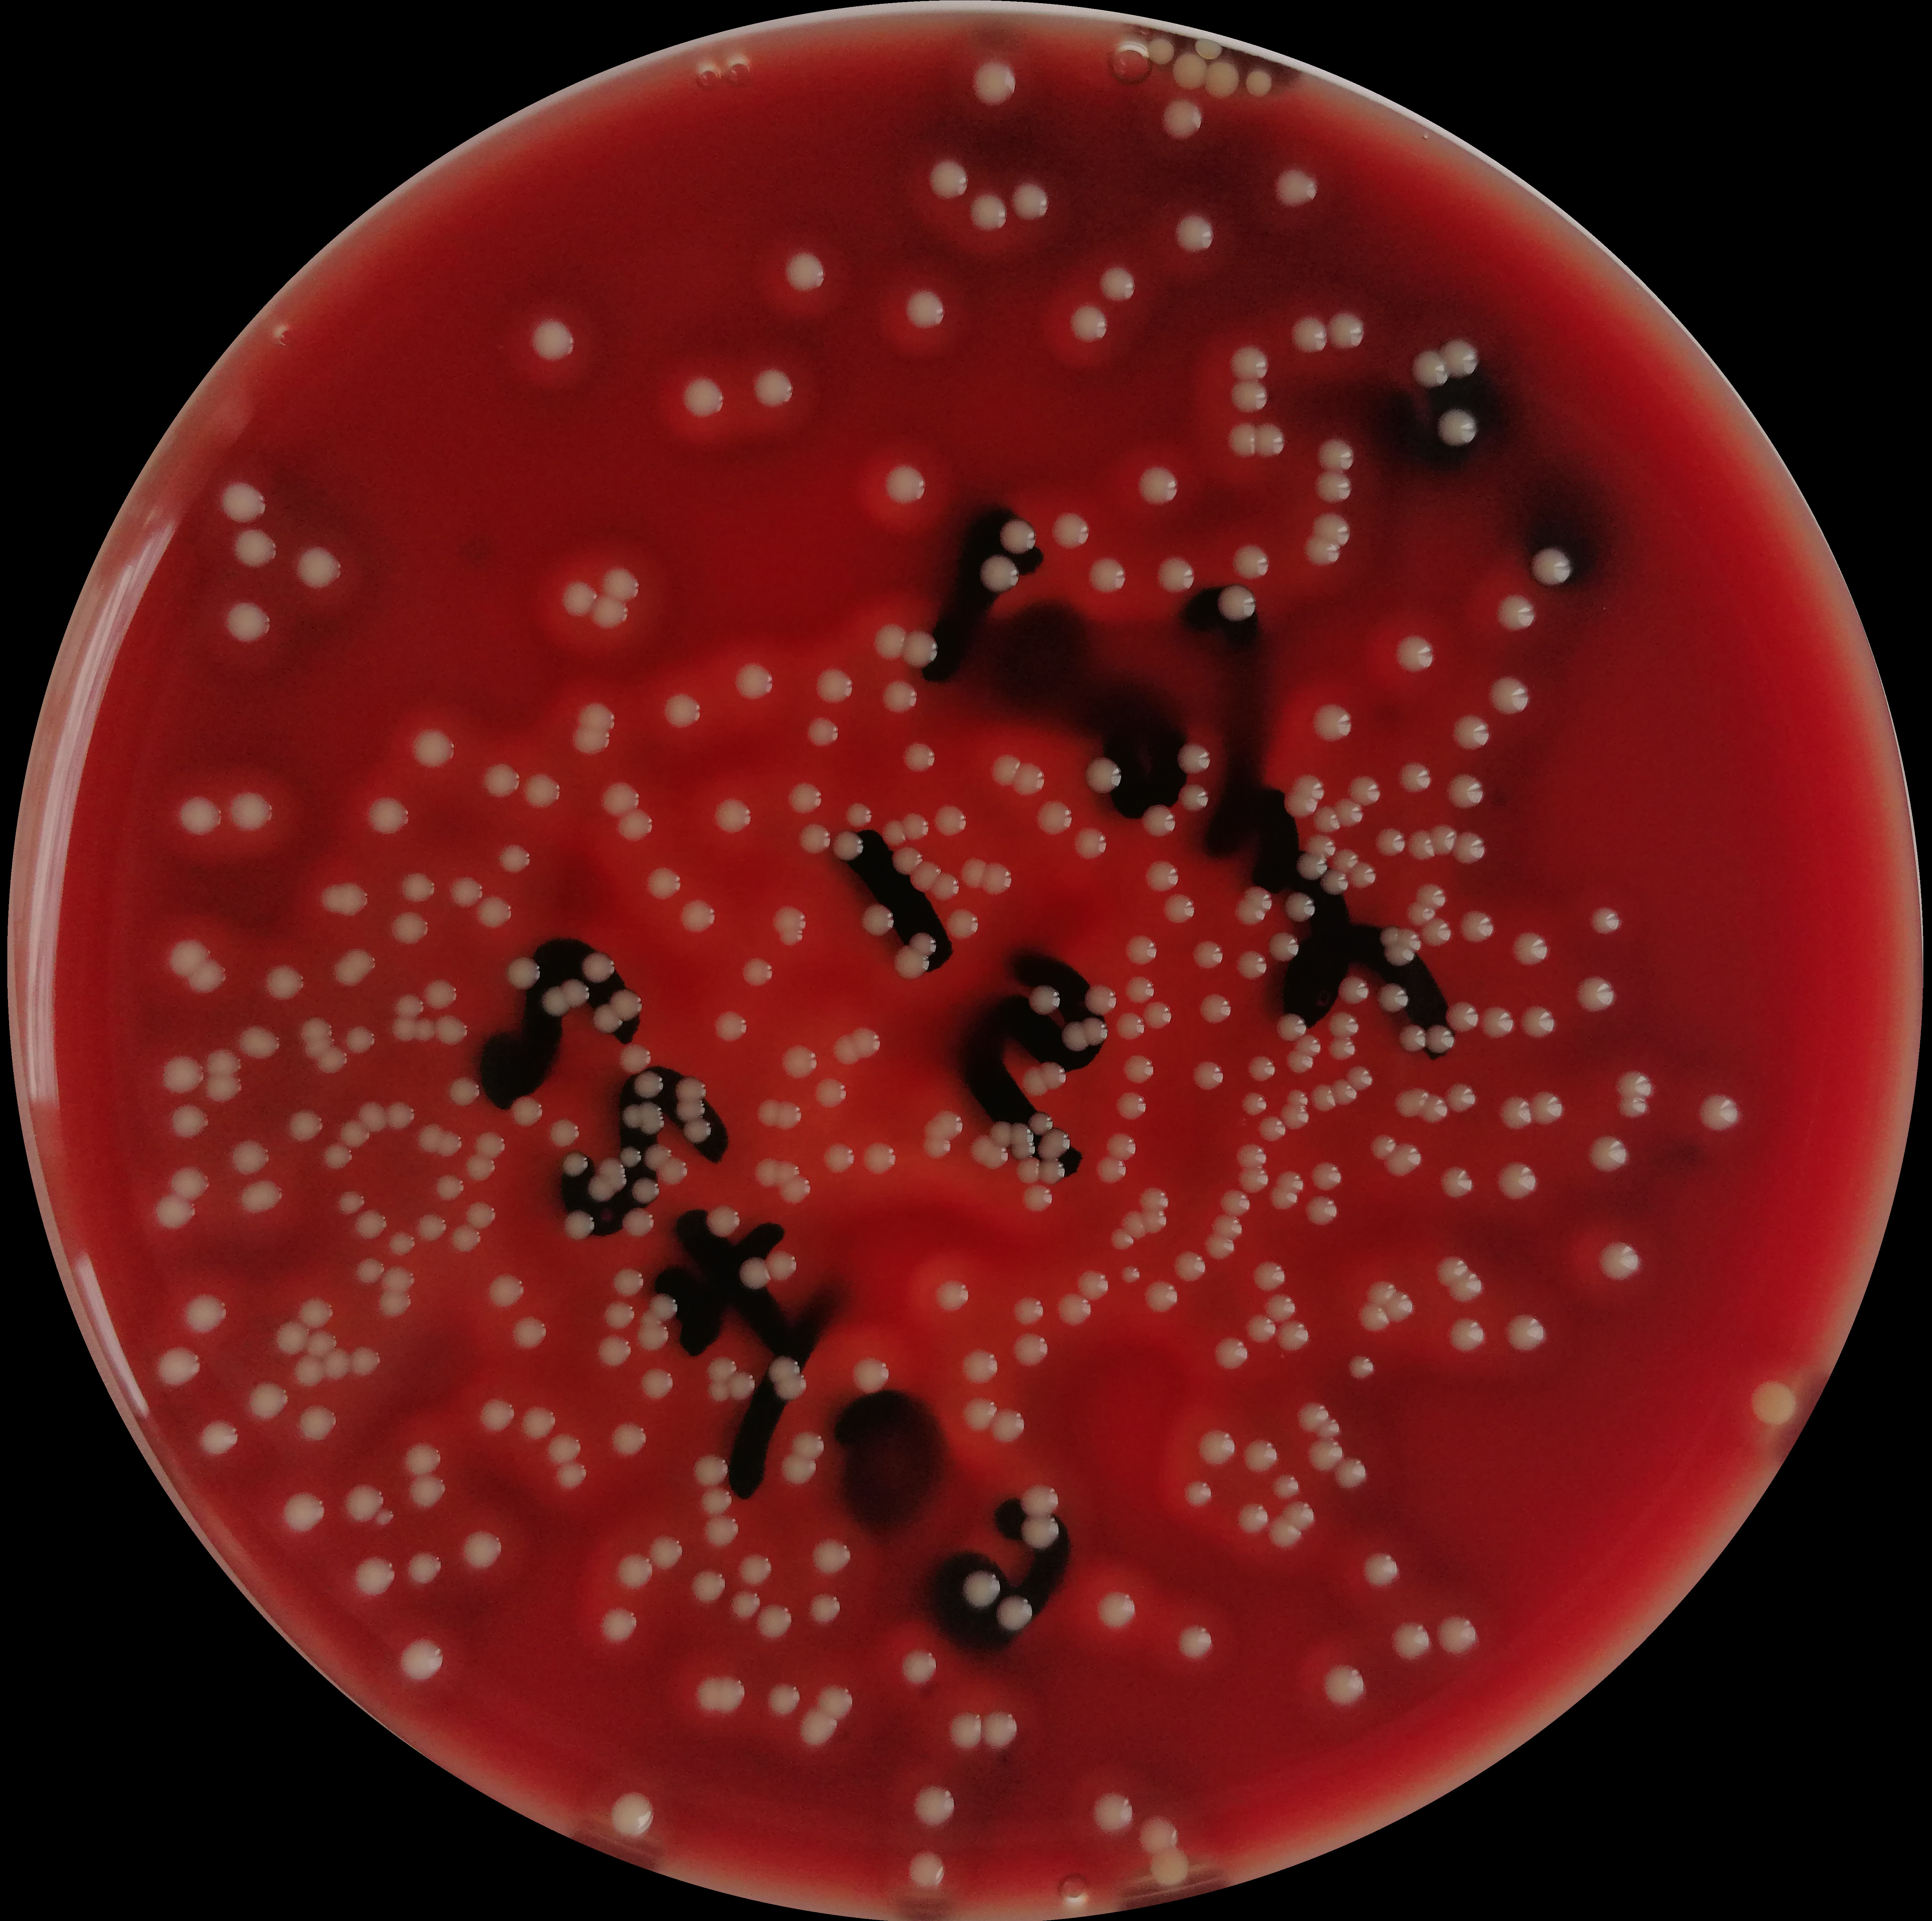sp21: (964, 58, 1029, 111), (609, 1787, 665, 1844), (918, 151, 977, 202), (693, 1669, 751, 1720), (408, 721, 461, 776), (1269, 162, 1327, 211), (218, 596, 276, 646), (215, 477, 269, 528), (289, 544, 347, 591), (528, 317, 582, 366), (1133, 461, 1184, 512), (1089, 1583, 1140, 1634), (896, 285, 948, 334), (398, 1632, 447, 1684), (153, 1342, 204, 1391), (329, 943, 380, 992), (1524, 542, 1577, 589), (910, 1782, 959, 1831), (1306, 700, 1357, 748), (352, 1552, 399, 1603), (677, 376, 730, 422), (276, 1490, 329, 1536), (1082, 554, 1137, 598), (1436, 332, 1483, 382), (1747, 1377, 1797, 1425), (1482, 668, 1533, 714), (1028, 797, 1079, 843), (1432, 1613, 1483, 1659), (245, 1379, 296, 1425), (195, 1414, 246, 1460), (779, 248, 827, 296), (748, 366, 795, 413), (1158, 95, 1207, 141), (964, 190, 1014, 236), (1434, 403, 1483, 449), (1323, 1661, 1369, 1710), (595, 1604, 644, 1650), (179, 1289, 229, 1335), (225, 785, 274, 830), (656, 688, 706, 734), (232, 521, 278, 570), (876, 670, 920, 721), (174, 797, 225, 841), (1133, 1814, 1186, 1856), (1221, 338, 1276, 378), (1170, 209, 1218, 255), (1066, 301, 1112, 348), (1392, 630, 1438, 677), (994, 515, 1042, 561), (943, 1708, 991, 1754), (1446, 711, 1496, 755), (977, 549, 1026, 593), (880, 461, 929, 505), (809, 661, 859, 705), (262, 959, 311, 1003), (1100, 259, 1142, 310), (234, 1024, 285, 1066), (1225, 538, 1277, 579), (1596, 1240, 1642, 1286), (1089, 1787, 1135, 1833), (364, 792, 410, 837), (340, 1479, 387, 1523), (1506, 931, 1555, 973), (1172, 1622, 1221, 1664), (463, 1525, 505, 1574), (734, 654, 772, 707), (1168, 47, 1212, 93), (1198, 58, 1244, 102), (894, 626, 940, 670), (1571, 969, 1617, 1013), (1145, 1845, 1191, 1889), (692, 1446, 735, 1492), (165, 936, 211, 980), (477, 760, 523, 804), (853, 895, 899, 939), (1006, 179, 1054, 222), (1300, 531, 1348, 573), (1154, 551, 1197, 598), (1212, 582, 1260, 625), (1452, 908, 1499, 950), (1501, 1311, 1548, 1353), (1189, 1427, 1237, 1469), (165, 1163, 213, 1205), (517, 771, 565, 813), (711, 790, 751, 839), (160, 1052, 204, 1096), (929, 1274, 973, 1318), (1119, 931, 1165, 973), (1585, 1133, 1631, 1175), (1358, 1550, 1404, 1592), (1390, 1618, 1432, 1664), (906, 1845, 948, 1891), (475, 1395, 517, 1441), (850, 1351, 892, 1397), (153, 1191, 199, 1233), (556, 579, 602, 621), (927, 800, 975, 841), (894, 1648, 941, 1689), (320, 878, 368, 918), (575, 697, 623, 737), (1325, 304, 1367, 348), (1228, 373, 1270, 417), (1404, 347, 1448, 389), (1496, 1158, 1538, 1202), (296, 1402, 340, 1444), (510, 1312, 554, 1355), (642, 860, 684, 904), (890, 943, 934, 985), (1008, 1328, 1052, 1370), (957, 1344, 999, 1388), (1047, 510, 1093, 551), (1698, 1092, 1744, 1133), (755, 1599, 795, 1645), (646, 1530, 686, 1576), (401, 1546, 447, 1587), (778, 1036, 818, 1082), (611, 804, 656, 844), (1017, 1511, 1063, 1552), (1140, 857, 1188, 895), (1369, 982, 1416, 1020), (1314, 433, 1357, 475), (1515, 1003, 1557, 1045), (797, 1706, 839, 1749), (229, 1138, 271, 1180), (818, 1136, 860, 1179), (389, 909, 431, 952), (600, 565, 642, 607), (867, 623, 908, 667), (1446, 823, 1487, 867), (1240, 1432, 1281, 1476), (978, 1712, 1019, 1756), (762, 1678, 806, 1719), (862, 1136, 903, 1180), (503, 953, 544, 997), (398, 867, 438, 911), (598, 778, 642, 818), (785, 774, 829, 814), (992, 1592, 1038, 1631), (540, 1430, 586, 1469), (238, 1177, 285, 1214), (1249, 417, 1290, 459), (975, 858, 1017, 899), (943, 904, 984, 946), (405, 1469, 447, 1509), (697, 1479, 737, 1522), (486, 1267, 526, 1309), (702, 1200, 744, 1240), (1288, 315, 1332, 354), (1309, 508, 1353, 547), (799, 711, 843, 749), (609, 1418, 648, 1462), (586, 591, 630, 630), (1492, 595, 1538, 632), (776, 1451, 822, 1488), (1311, 468, 1358, 503), (1140, 802, 1181, 843), (403, 1437, 443, 1478), (171, 1101, 211, 1142), (711, 1008, 751, 1048), (612, 1548, 651, 1590), (560, 1203, 598, 1245), (187, 959, 229, 997), (984, 1407, 1026, 1446), (1080, 756, 1124, 793), (1302, 1437, 1346, 1474), (896, 739, 943, 772), (1443, 771, 1483, 809), (970, 1135, 1008, 1175), (1524, 1087, 1564, 1126), (1277, 1497, 1318, 1536), (813, 1682, 853, 1720), (702, 1511, 741, 1552), (635, 1363, 676, 1402), (595, 1333, 635, 1372), (762, 1245, 802, 1284), (336, 1114, 377, 1152), (619, 1202, 658, 1242), (496, 839, 535, 880), (827, 825, 866, 866), (957, 1395, 998, 1434), (1494, 1092, 1536, 1129), (732, 1550, 774, 1587), (447, 1071, 484, 1114), (505, 1089, 542, 1131), (808, 1539, 852, 1574), (567, 721, 614, 753), (1186, 936, 1225, 975), (1381, 1140, 1420, 1179), (1330, 1451, 1369, 1490), (352, 1207, 391, 1245), (473, 890, 512, 929), (1221, 417, 1258, 457), (1279, 887, 1320, 924), (1207, 1335, 1248, 1372), (521, 1400, 558, 1441), (296, 1293, 336, 1330), (630, 1064, 667, 1105), (772, 1096, 809, 1136), (607, 983, 644, 1024), (1019, 1479, 1059, 1516), (1175, 739, 1212, 778), (1344, 772, 1381, 811), (1441, 997, 1480, 1034), (1072, 825, 1110, 862), (927, 866, 964, 904), (904, 858, 943, 895), (1195, 990, 1233, 1027), (1235, 1499, 1272, 1538), (962, 1571, 1001, 1608), (688, 1569, 727, 1606), (771, 1369, 809, 1406), (618, 1038, 655, 1077), (813, 1073, 850, 1112), (1010, 1289, 1047, 1328), (1056, 1289, 1093, 1328), (447, 873, 486, 909), (679, 897, 716, 936), (794, 818, 831, 857), (1262, 932, 1302, 968), (1388, 1084, 1429, 1119), (1249, 1258, 1290, 1293), (1263, 1515, 1304, 1550), (577, 950, 618, 985), (421, 978, 461, 1013), (1008, 762, 1050, 795), (1306, 1159, 1348, 1193), (1610, 1068, 1652, 1101), (320, 1342, 354, 1384), (1161, 888, 1198, 925), (1119, 1050, 1156, 1087), (1379, 1288, 1416, 1325), (1438, 1163, 1475, 1200), (290, 1351, 327, 1388), (1443, 1082, 1482, 1117), (1446, 1316, 1485, 1351), (299, 1325, 338, 1360), (384, 1226, 419, 1265), (435, 1012, 470, 1050), (1170, 1249, 1211, 1282), (804, 1596, 845, 1629), (274, 1316, 308, 1356), (202, 1047, 243, 1080), (850, 1020, 883, 1061), (202, 1071, 245, 1103), (1587, 904, 1624, 939), (1420, 1020, 1457, 1055), (1036, 1128, 1073, 1163), (1293, 1399, 1330, 1434), (739, 1253, 774, 1289), (355, 1098, 391, 1135), (470, 1126, 507, 1161), (737, 953, 772, 990), (1397, 756, 1431, 795), (1024, 983, 1063, 1017), (1110, 1089, 1149, 1122), (723, 1367, 757, 1406), (600, 1296, 639, 1330), (285, 1108, 324, 1142), (429, 1170, 468, 1203), (764, 1353, 804, 1384), (1077, 1263, 1109, 1304), (767, 899, 808, 931), (635, 1098, 665, 1140), (1242, 67, 1277, 102), (1337, 973, 1372, 1008), (1476, 1001, 1511, 1036), (897, 807, 933, 843), (1344, 1349, 1379, 1384), (341, 1022, 377, 1057), (1144, 32, 1177, 69), (1175, 783, 1212, 816), (1371, 825, 1408, 858), (1240, 881, 1277, 915), (984, 753, 1021, 786), (1189, 1059, 1226, 1092), (1218, 1186, 1255, 1219), (1357, 1300, 1390, 1337), (1450, 1267, 1483, 1304), (725, 1587, 758, 1624), (788, 1427, 825, 1460), (350, 1340, 384, 1377), (558, 973, 591, 1010), (1272, 1321, 1311, 1353), (377, 1261, 415, 1293), (1418, 917, 1453, 950), (1121, 975, 1156, 1008), (1304, 1193, 1339, 1226), (1262, 1289, 1295, 1325), (1242, 1312, 1276, 1348), (1434, 1254, 1469, 1288), (551, 1458, 586, 1492), (704, 1355, 739, 1388), (352, 1254, 387, 1288), (380, 1098, 415, 1131), (413, 1207, 447, 1242), (547, 1115, 582, 1149), (410, 1013, 443, 1048), (1330, 799, 1367, 830), (1379, 939, 1416, 971), (1084, 983, 1121, 1015), (1142, 1282, 1179, 1314), (1179, 1479, 1216, 1511), (750, 1152, 781, 1189), (1022, 1180, 1054, 1217), (887, 841, 924, 873), (1429, 822, 1459, 860), (1200, 1231, 1239, 1261), (299, 1036, 338, 1066), (311, 1043, 352, 1071), (1021, 1066, 1054, 1099), (1276, 1010, 1309, 1043), (1237, 1163, 1270, 1196), (640, 1138, 674, 1172), (589, 1004, 623, 1038), (1406, 827, 1438, 862), (1413, 880, 1448, 911), (1300, 830, 1336, 862), (1277, 1101, 1313, 1133), (1103, 1129, 1138, 1161), (642, 1289, 677, 1321), (635, 1323, 670, 1355), (377, 1288, 412, 1319), (658, 1152, 690, 1187), (1362, 1281, 1399, 1311), (415, 1119, 443, 1158), (1193, 32, 1225, 65), (1295, 851, 1328, 883), (1344, 860, 1378, 892), (1397, 1022, 1429, 1055), (955, 857, 987, 890), (1270, 1471, 1304, 1502), (322, 1138, 354, 1172), (463, 1152, 496, 1184), (676, 1070, 707, 1103), (299, 1015, 333, 1047), (843, 797, 875, 830), (1283, 790, 1318, 820), (1233, 1142, 1269, 1172), (1093, 1154, 1128, 1184), (612, 1263, 642, 1298), (674, 1096, 709, 1126), (934, 1105, 964, 1140), (918, 1133, 954, 1163), (1402, 899, 1439, 927), (904, 929, 941, 957), (772, 1156, 801, 1193), (1615, 1094, 1654, 1121), (1232, 948, 1265, 978), (1038, 1057, 1068, 1091), (1307, 1080, 1337, 1114), (336, 1186, 366, 1219), (450, 1219, 480, 1253), (755, 1098, 785, 1131), (538, 982, 568, 1015), (392, 989, 422, 1022), (1290, 774, 1325, 802), (1135, 1187, 1172, 1214), (1079, 1015, 1109, 1047), (1059, 1024, 1091, 1054), (1343, 1063, 1374, 1092), (704, 1376, 735, 1406), (466, 1198, 496, 1230), (586, 1172, 616, 1203), (630, 1173, 660, 1205), (779, 1173, 809, 1205), (774, 925, 806, 955), (878, 816, 908, 848), (1114, 1013, 1147, 1041), (1365, 1133, 1399, 1161), (389, 1013, 417, 1047), (1212, 1214, 1248, 1240), (831, 1031, 857, 1066), (1246, 1054, 1276, 1084), (1328, 1034, 1358, 1064), (1328, 1077, 1358, 1107), (1119, 1210, 1149, 1240), (683, 1115, 713, 1145), (1140, 1001, 1172, 1029), (1255, 1114, 1286, 1142), (1003, 1119, 1035, 1147), (1328, 850, 1362, 876), (1014, 1158, 1047, 1184), (436, 1126, 461, 1161), (1235, 901, 1265, 929), (1292, 1033, 1321, 1061), (1311, 807, 1343, 834), (1420, 1091, 1446, 1122), (1325, 1012, 1358, 1036), (1239, 1089, 1267, 1117), (1138, 1209, 1167, 1237), (1284, 1050, 1314, 1077), (1038, 1158, 1068, 1184), (1274, 1168, 1304, 1194), (1267, 1184, 1297, 1210), (561, 1149, 588, 1179), (1374, 922, 1402, 948), (1318, 866, 1346, 892), (984, 1119, 1010, 1147), (1392, 927, 1422, 952), (1284, 1085, 1314, 1110), (918, 1115, 945, 1142), (1026, 1112, 1054, 1136), (618, 1142, 642, 1170), (1006, 1140, 1036, 1163), (1314, 1416, 1344, 1439), (368, 1502, 398, 1525), (602, 1170, 626, 1196), (633, 1307, 662, 1330), (619, 1101, 642, 1129), (598, 1156, 625, 1179), (1107, 1228, 1135, 1249), (1116, 1263, 1142, 1284)
